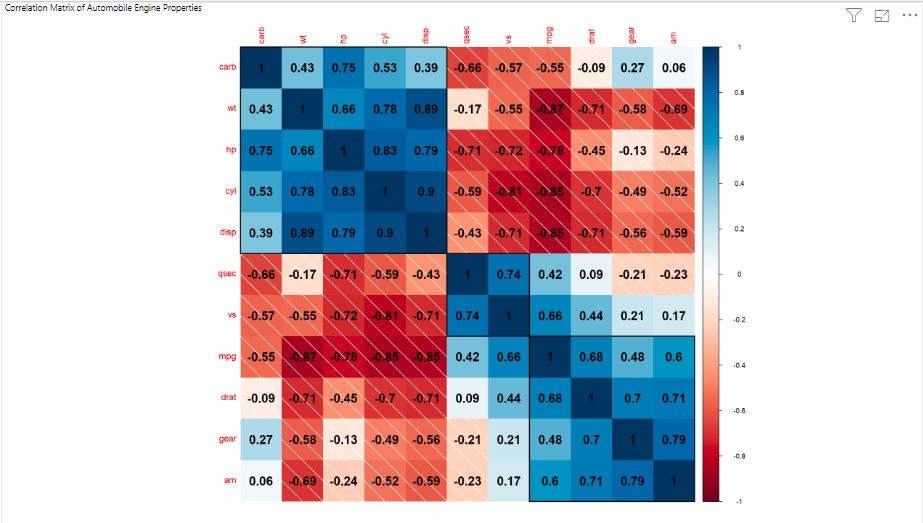

This screenshot's page, from the dashboard's own definition file:
{"tool":"powerbi","page":{"name":"Corr Matrix","canvas":[1280,720],"ordinal":0},"visuals":[{"type":"PBI_CV_FC22EF20_6A7C_4F30_B29B_144CD82E5279","title":"Correlation Matrix of Automobile Engine Properties","fields":{"Values":["5197_cars.cyl","5197_cars.disp","5197_cars.drat","5197_cars.gear","5197_cars.mpg","5197_cars.hp","5197_cars.qsec","5197_cars.vs","5197_cars.wt","5197_cars.carb","5197_cars.am"]},"box":[10.7,0,1269.3,719.8],"z":1}]}

Visuals, with their boxes on the page's 1280x720 design canvas (x1, y1, x2, y2). These are canvas units, not pixel positions in the 923x523 screenshot, which may show the page scaled, cropped or inside an application window:
"Correlation Matrix of Automobile Engine Properties" PBI_CV_FC22EF20_6A7C_4F30_B29B_144CD82E5279: detection(11, 0, 1280, 720)
